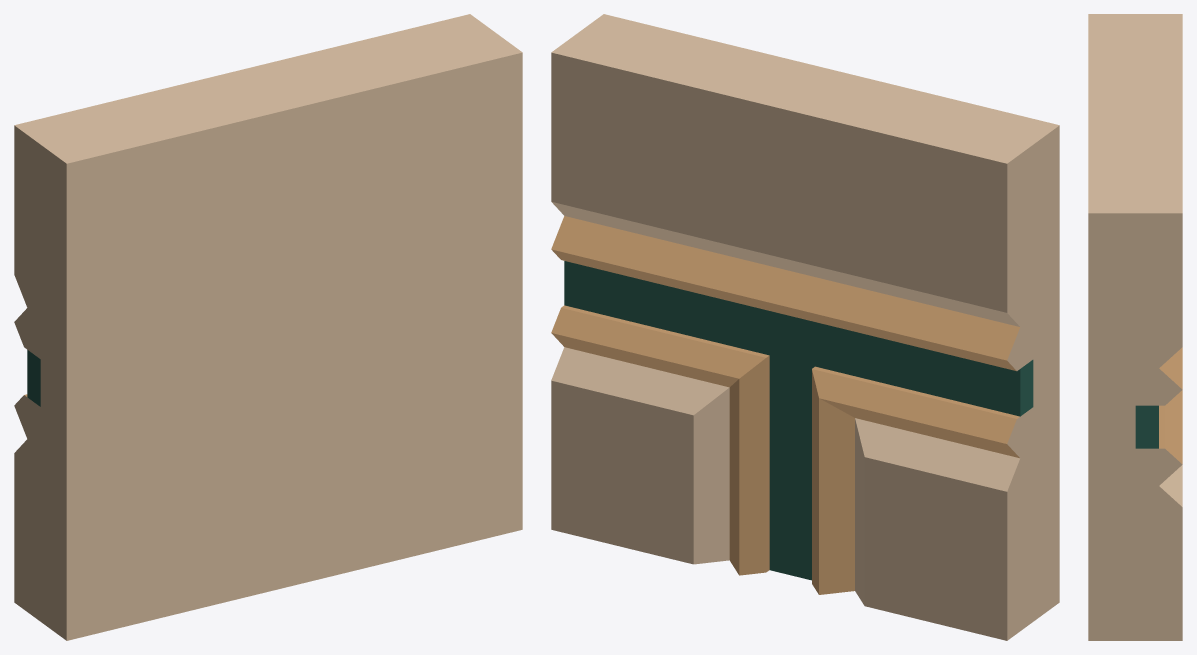
File: Puzzle_Wall_Conduit_Path_TJoint.fbx
3 views of the same model, side by side, from view 1: azimuth 30°, elevation 25°; view 2: azimuth 150°, elevation 25°; view 3: azimuth 270°, elevation 25° (orthographic). The views are drawn at different scales.
Parts seen in each view (by area): view 1: Sandstone_Trim.Sandstone_Trim.Sandstone_Trim.Sandstone_Trim.; view 2: Sandstone_Trim.Sandstone_Trim.Sandstone_Trim.Sandstone_Trim., Sandstone_5.Sandstone_5.Sandstone_5.Sandstone_5.object2, object1; view 3: Sandstone_Trim.Sandstone_Trim.Sandstone_Trim.Sandstone_Trim., Sandstone_5.Sandstone_5.Sandstone_5.Sandstone_5.object2, object1.
Boxes of the visible parts, x1,y1,x2,y2 form: Sandstone_Trim.Sandstone_Trim.Sandstone_Trim.Sandstone_Trim.: (14, 14, 522, 640); Sandstone_Trim.Sandstone_Trim.Sandstone_Trim.Sandstone_Trim.: (551, 14, 1059, 640); Sandstone_5.Sandstone_5.Sandstone_5.Sandstone_5.object2: (551, 216, 1020, 594); object1: (564, 261, 1033, 580); Sandstone_Trim.Sandstone_Trim.Sandstone_Trim.Sandstone_Trim.: (1088, 14, 1182, 640); Sandstone_5.Sandstone_5.Sandstone_5.Sandstone_5.object2: (1159, 347, 1182, 463); object1: (1135, 405, 1158, 448).
Size of the model in its own units: 1 by 1 by 0.2.
